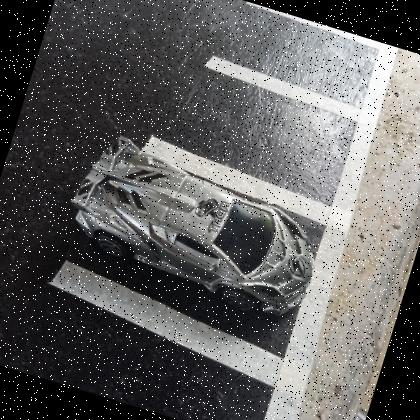Car: (70, 140, 313, 319)
